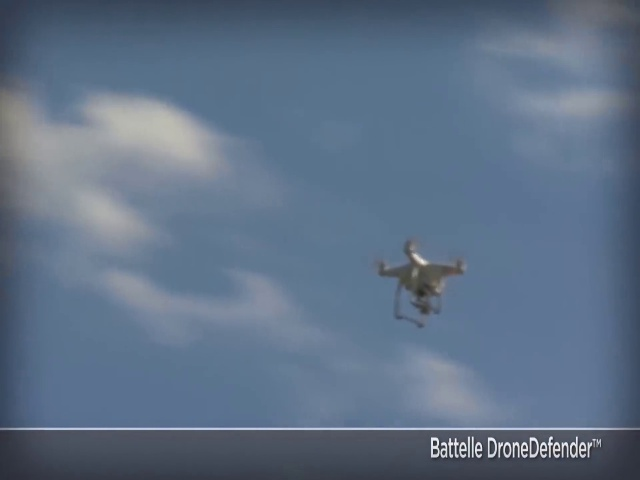drone: (363, 231, 478, 331)
